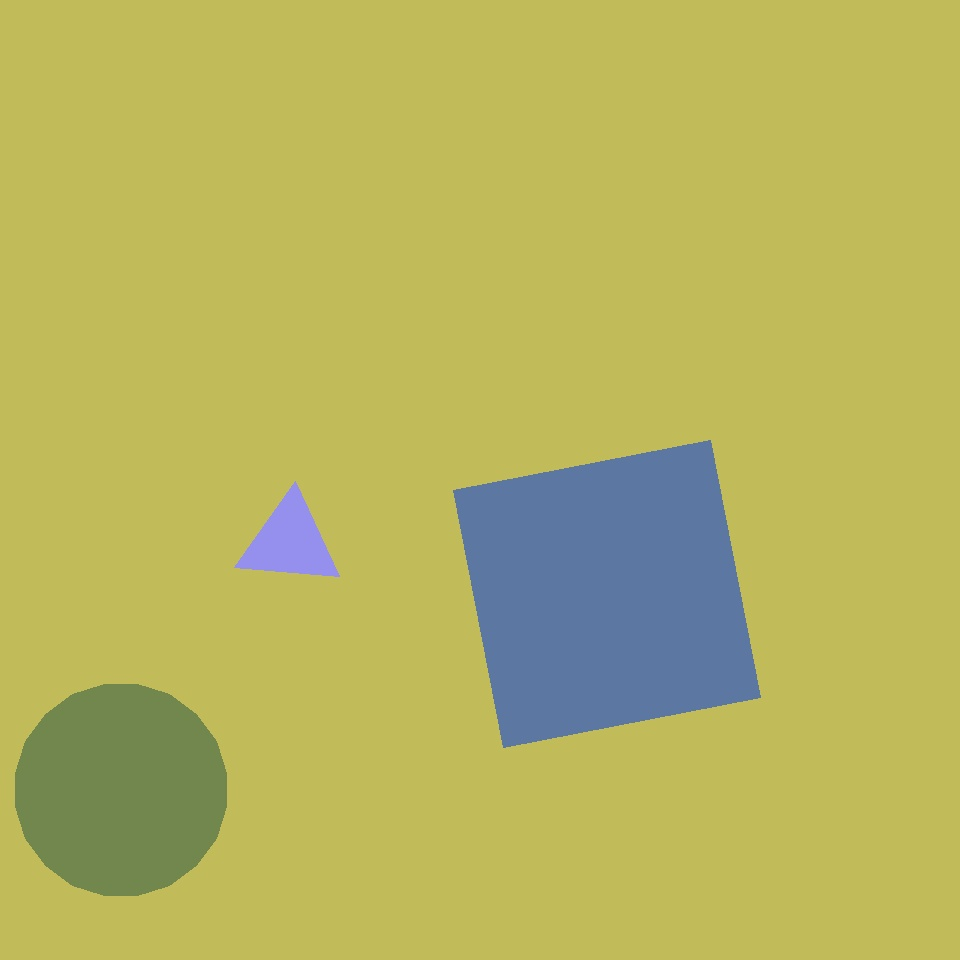circle: (363, 706, 482, 842), (237, 494, 342, 590)
square: (454, 440, 760, 748), (128, 410, 406, 688)
triangle: (15, 684, 226, 895)
